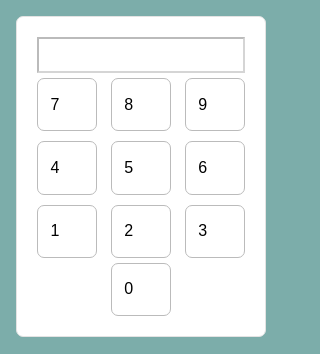
checks if value masking works
Click the button with test id "button-1" at (67, 231), box [37,204,97,258]
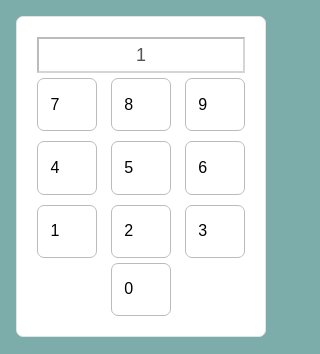
Click the button with test id "button-3" at (215, 231), box [185,204,245,258]
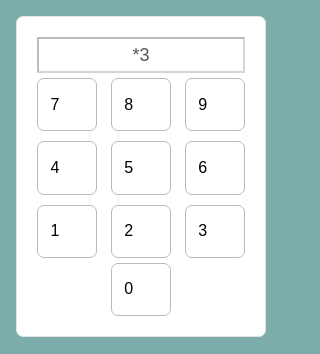
Click the button with test id "button-5" at (141, 168), box [111,141,171,195]
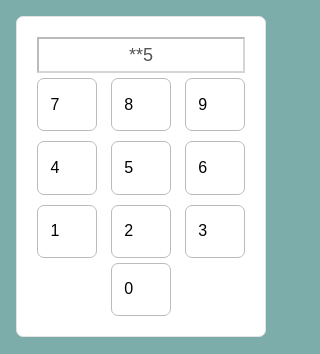
Now the field with test id "keypad-input" holds "**5", box [37,37,245,73]
